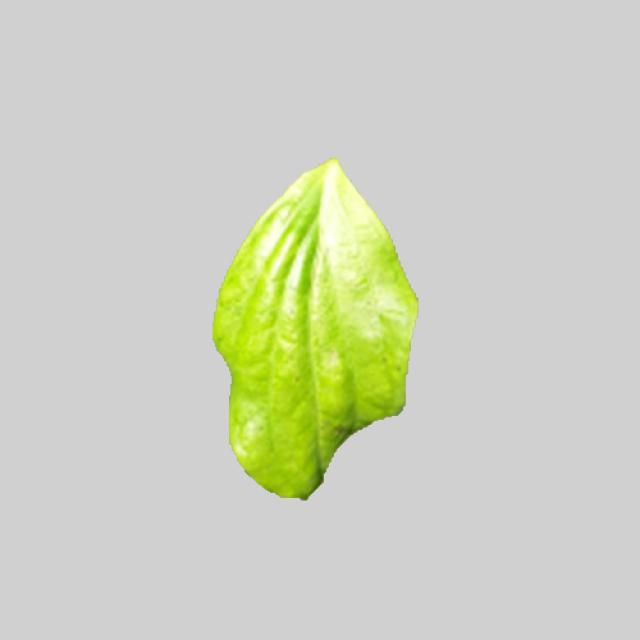yellow-mottle-virus: (203, 156, 420, 497)
